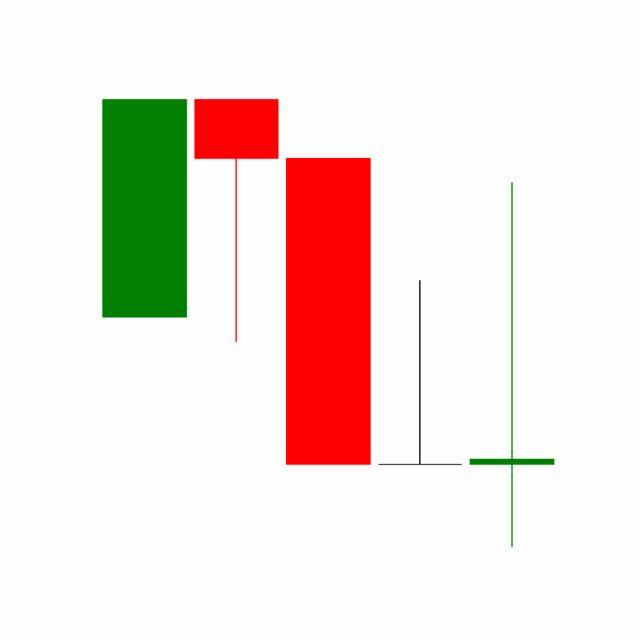Spinning Top: (374, 278, 468, 467)
